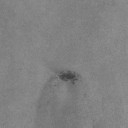iron sheet ash: (59, 72, 78, 85)
